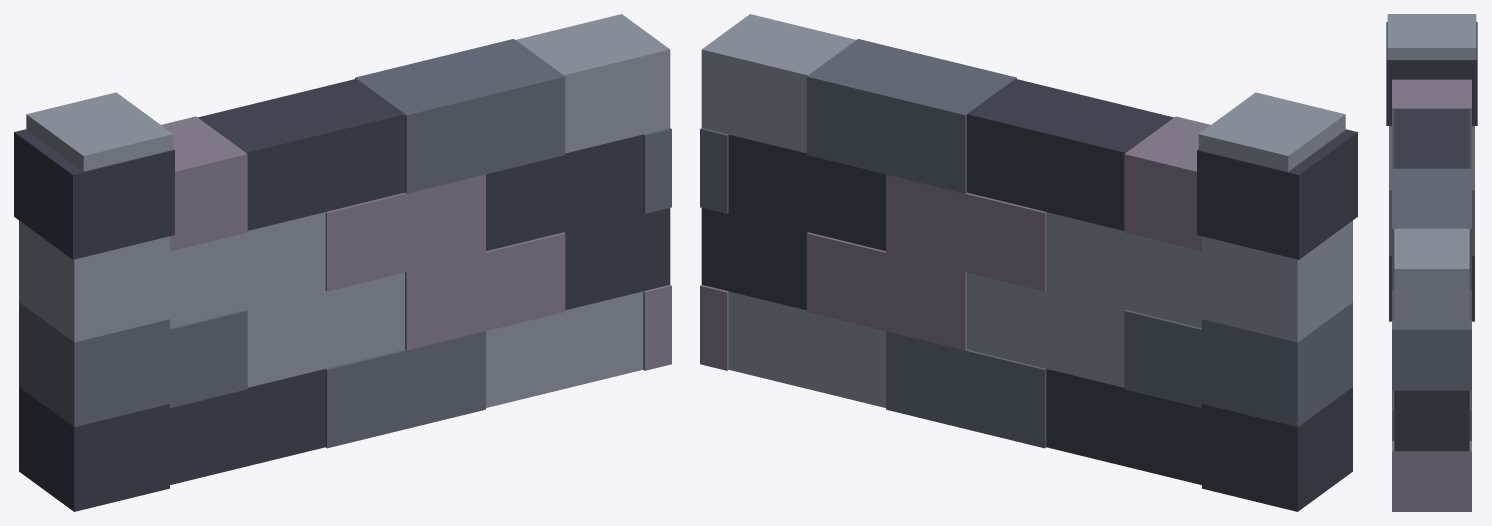
File: TW_STONE_WALL_2M_B_LOD0.glb
3 renders of one model, left to right at view 1: azimuth 30°, elevation 25°; view 2: azimuth 150°, elevation 25°; view 3: azimuth 270°, elevation 25°, orthographic. The views are drawn at different scales.
Parts seen in each view (by area): view 1: TW_STONE_WALL_2M_B_LOD0; view 2: TW_STONE_WALL_2M_B_LOD0; view 3: TW_STONE_WALL_2M_B_LOD0.
Boxes of the visible parts, box(x1,y1,x2,y2) form: TW_STONE_WALL_2M_B_LOD0: box(14, 14, 671, 511); TW_STONE_WALL_2M_B_LOD0: box(700, 14, 1357, 511); TW_STONE_WALL_2M_B_LOD0: box(1386, 14, 1477, 511).
Size of the model in its own units: 2.01 by 1.13 by 0.34.
Materials: 1 (1 with a texture image).
